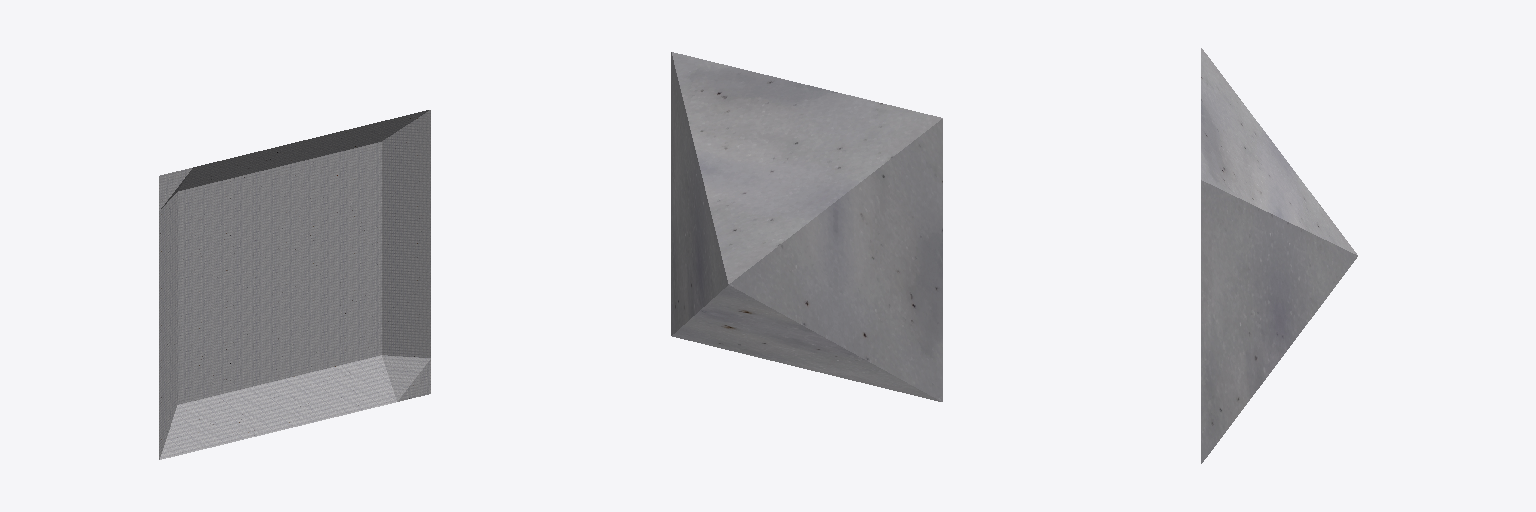
The picture shows the model from 3 angles: view 1: azimuth 30°, elevation 25°; view 2: azimuth 150°, elevation 25°; view 3: azimuth 270°, elevation 25°; orthographic projection.
Visible parts, largest first — view 1: Ground.003.003, Ground.002.003, Ground.003.002, Ground.003.001, Ground.001.002, Ground.002.002, Ground.001.003, Ground.003.004, Ground.002.001, Ground.004.003, Ground.001.001, Ground.002.004 (+4 smaller); view 2: Bottom.004, Bottom.003, Bottom.001, Bottom.002; view 3: Bottom.002, Bottom.003.
Part boxes in pixels (x1,y1,x2,y2): Ground.003.003: (348, 320, 430, 409); Ground.002.003: (348, 177, 430, 255); Ground.003.002: (348, 248, 430, 327); Ground.003.001: (280, 328, 362, 426); Ground.001.002: (212, 344, 294, 443); Ground.002.002: (348, 110, 430, 184); Ground.001.003: (212, 273, 279, 360); Ground.003.004: (280, 257, 347, 343); Ground.002.001: (280, 186, 347, 272); Ground.004.003: (212, 202, 279, 289); Ground.001.001: (159, 361, 226, 459); Ground.002.004: (280, 126, 362, 201); Bottom.004: (729, 119, 942, 401); Bottom.003: (672, 52, 942, 283); Bottom.001: (672, 285, 940, 401); Bottom.002: (671, 52, 728, 335); Bottom.002: (1201, 180, 1357, 463); Bottom.003: (1201, 48, 1356, 254).
Bounding box in the file's own units: 1000 × 1000 × 501.
Materials: 1 (1 with a texture image).